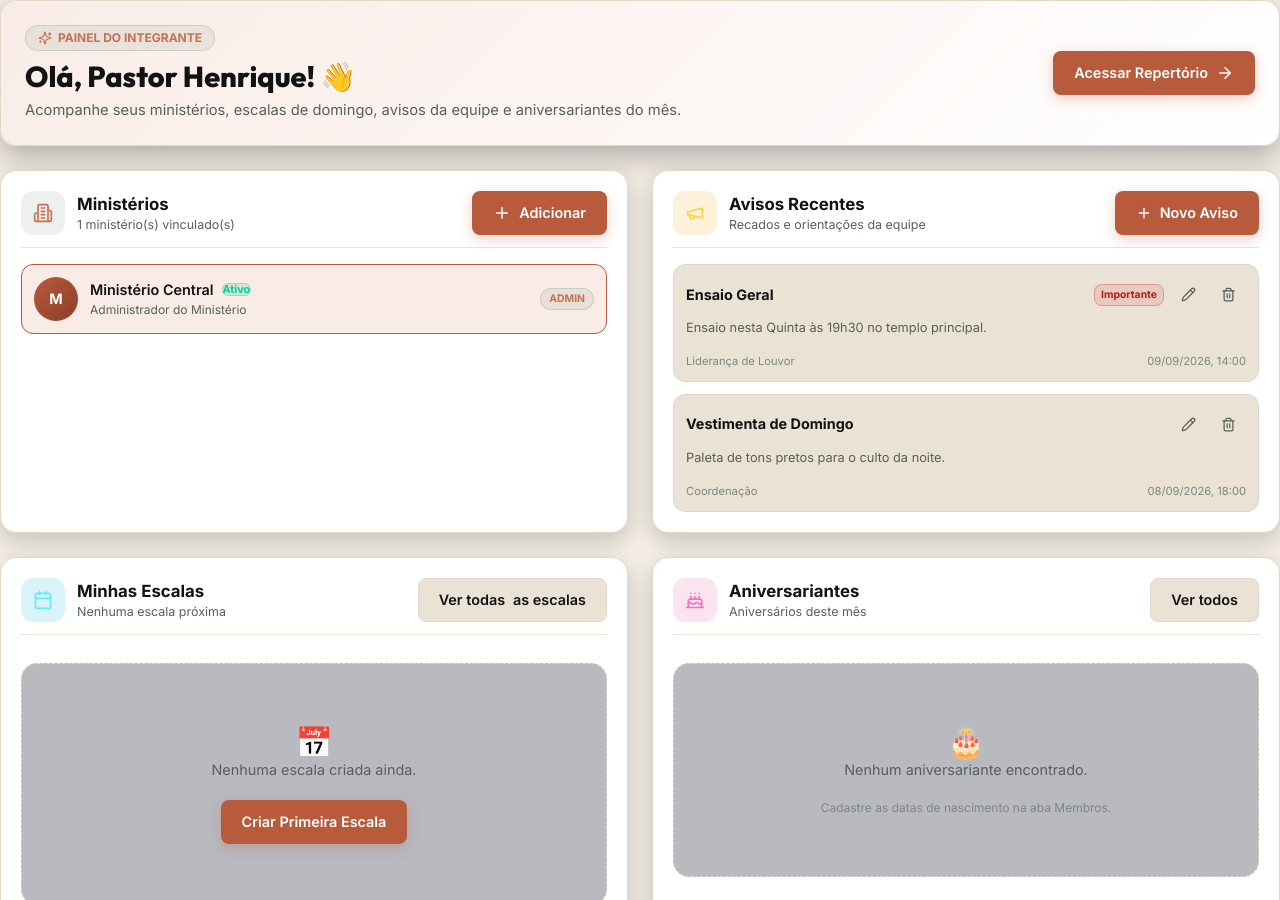
Test: DashboardView - Persisted Announcements › 8. Administrador pode excluir aviso com confirmação
Expected: the text "Ensaio Geral" is shown, [686, 286, 774, 303]
Click the button named "Excluir aviso Ensaio Geral".
click(1228, 295)  # box [1210, 277, 1246, 313]
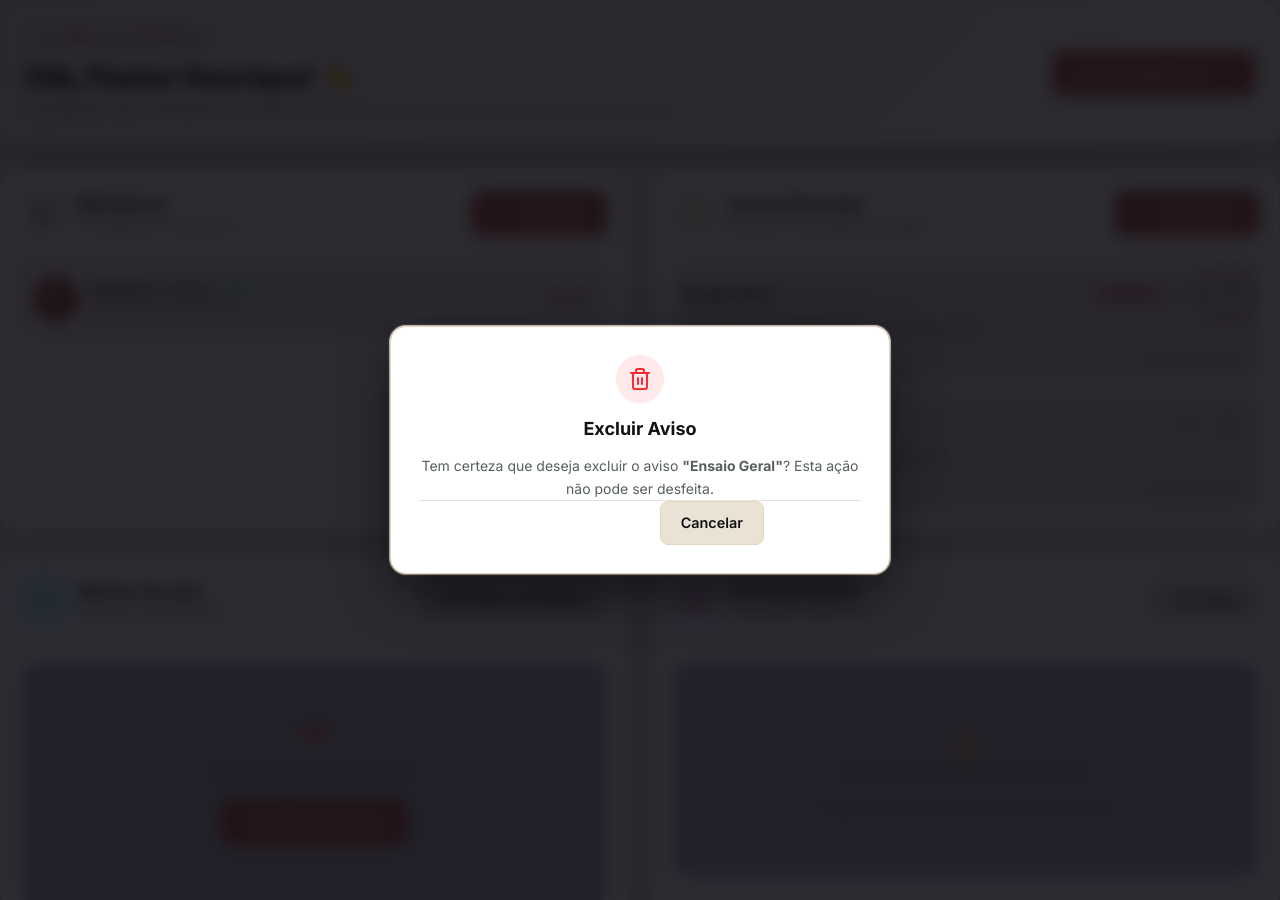
Result: the heading "Excluir Aviso" is shown at [583, 415, 697, 443]
Result: the text "Tem certeza que deseja excluir o aviso" is shown at [422, 457, 682, 474]
Click the button "Excluir".
click(818, 523)  # box [774, 501, 861, 545]
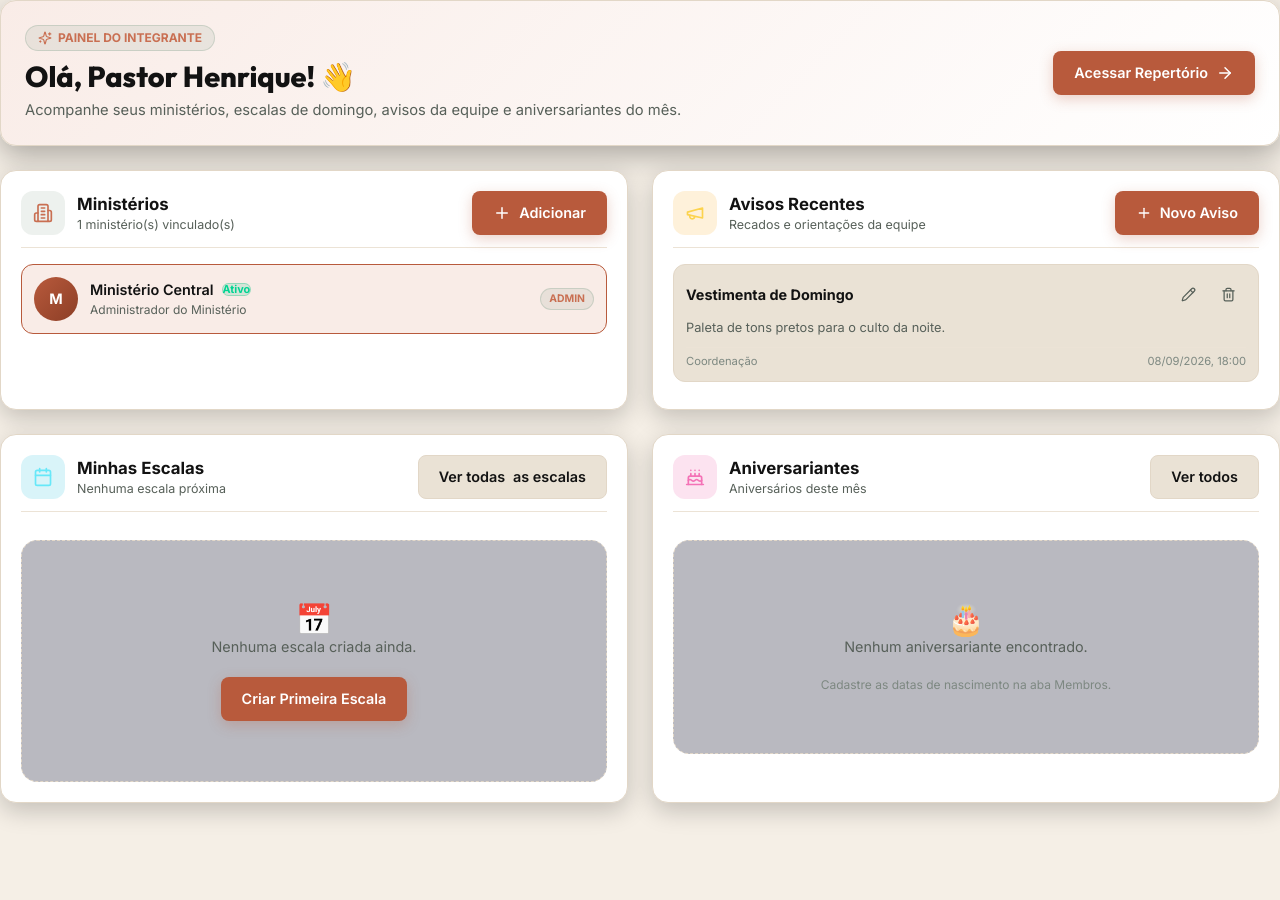
Result: the text "Ensaio Geral" is gone
